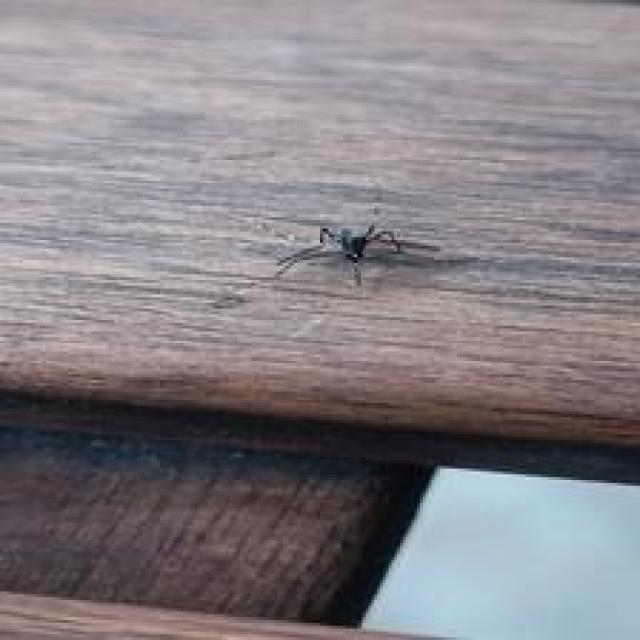Aedes albopictus: (274, 222, 440, 287)
